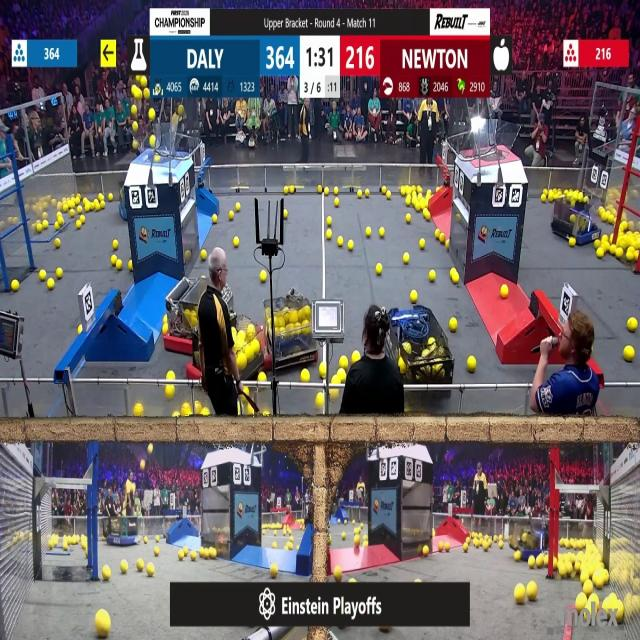ball_airborne: (134, 88, 142, 100), (127, 482, 135, 494), (148, 109, 155, 120), (140, 76, 147, 87), (149, 136, 155, 148), (143, 90, 150, 100), (132, 105, 138, 115), (133, 140, 139, 150), (133, 120, 139, 130), (140, 460, 146, 470), (178, 105, 184, 115), (148, 445, 153, 455), (153, 153, 159, 161)
ball_ground: (94, 612, 109, 638), (526, 584, 538, 602), (516, 586, 526, 605), (575, 594, 585, 611), (625, 347, 635, 361), (628, 318, 638, 332), (584, 582, 594, 595), (166, 385, 175, 399), (319, 362, 327, 377), (134, 406, 144, 418), (467, 356, 475, 371), (102, 566, 110, 580), (335, 566, 343, 580), (451, 271, 459, 285), (316, 393, 324, 407), (626, 248, 634, 262), (182, 405, 191, 417), (411, 289, 419, 302), (450, 318, 458, 330), (352, 351, 360, 363), (500, 286, 508, 298), (302, 370, 310, 382), (340, 368, 348, 380), (559, 565, 567, 577), (271, 564, 278, 577), (147, 563, 154, 576), (11, 280, 18, 292), (138, 560, 145, 572), (528, 556, 535, 568), (398, 359, 404, 373), (57, 269, 64, 280), (259, 272, 266, 283), (341, 356, 348, 367), (210, 549, 217, 560), (617, 248, 624, 259), (202, 549, 209, 560), (47, 278, 53, 290), (120, 561, 126, 573), (536, 556, 542, 568), (634, 249, 640, 261), (115, 262, 122, 272), (168, 369, 175, 379), (406, 214, 413, 224), (597, 249, 604, 259), (417, 202, 424, 212), (258, 373, 265, 382), (316, 184, 323, 193), (420, 240, 426, 250), (402, 252, 408, 262), (39, 271, 45, 281), (348, 241, 354, 251), (516, 552, 522, 562), (202, 250, 208, 260), (339, 238, 345, 248), (380, 228, 386, 238), (325, 231, 331, 241), (422, 545, 428, 555), (429, 272, 435, 282), (190, 552, 196, 562), (423, 210, 429, 220), (110, 254, 116, 264), (354, 535, 360, 545), (407, 198, 413, 208), (36, 222, 42, 232), (609, 245, 615, 255), (539, 193, 546, 201), (203, 410, 210, 418), (331, 376, 338, 384), (212, 214, 218, 223), (569, 239, 575, 248), (365, 229, 371, 238), (440, 234, 446, 243), (484, 541, 490, 550), (184, 250, 190, 259), (76, 198, 82, 207), (399, 186, 405, 195), (377, 266, 382, 276), (129, 262, 134, 272), (283, 209, 288, 219), (248, 408, 253, 418), (242, 384, 247, 394), (542, 556, 547, 566), (364, 190, 371, 197), (108, 192, 114, 200), (42, 220, 48, 228), (100, 201, 106, 209), (335, 200, 341, 208), (356, 190, 362, 198), (595, 240, 601, 248), (81, 541, 87, 549), (546, 192, 552, 200), (78, 324, 84, 332), (77, 206, 83, 214), (446, 542, 452, 550), (83, 201, 89, 209), (235, 238, 240, 247), (112, 241, 117, 250), (326, 216, 331, 225), (179, 552, 184, 561), (228, 211, 233, 220), (434, 231, 439, 240), (440, 541, 445, 550), (363, 535, 368, 544), (553, 559, 558, 568), (164, 323, 169, 332), (59, 214, 64, 223), (289, 185, 294, 194), (335, 187, 341, 194), (56, 240, 61, 248), (76, 220, 81, 228), (237, 204, 242, 212), (154, 545, 158, 555), (70, 209, 75, 217), (99, 192, 104, 200), (284, 186, 289, 194), (417, 185, 422, 193), (465, 536, 470, 544), (472, 538, 477, 546), (416, 578, 422, 584), (350, 576, 356, 582), (354, 528, 360, 534), (463, 543, 468, 550), (56, 222, 61, 229), (445, 241, 450, 248), (343, 534, 347, 542), (387, 190, 391, 198), (499, 540, 503, 548), (64, 541, 68, 549), (80, 215, 84, 223), (324, 187, 328, 195), (427, 189, 431, 197), (83, 552, 88, 558), (273, 541, 277, 548), (155, 535, 159, 542), (288, 542, 292, 549), (144, 536, 148, 542), (274, 530, 278, 536), (345, 520, 349, 526), (289, 535, 293, 541), (295, 544, 299, 550)
goal: (464, 120, 521, 160)
robot_blue: (551, 194, 598, 246), (228, 319, 264, 383), (509, 519, 551, 559), (104, 516, 138, 546), (341, 480, 368, 508)
robot_red: (402, 309, 456, 405), (264, 292, 317, 372), (164, 280, 201, 354)
